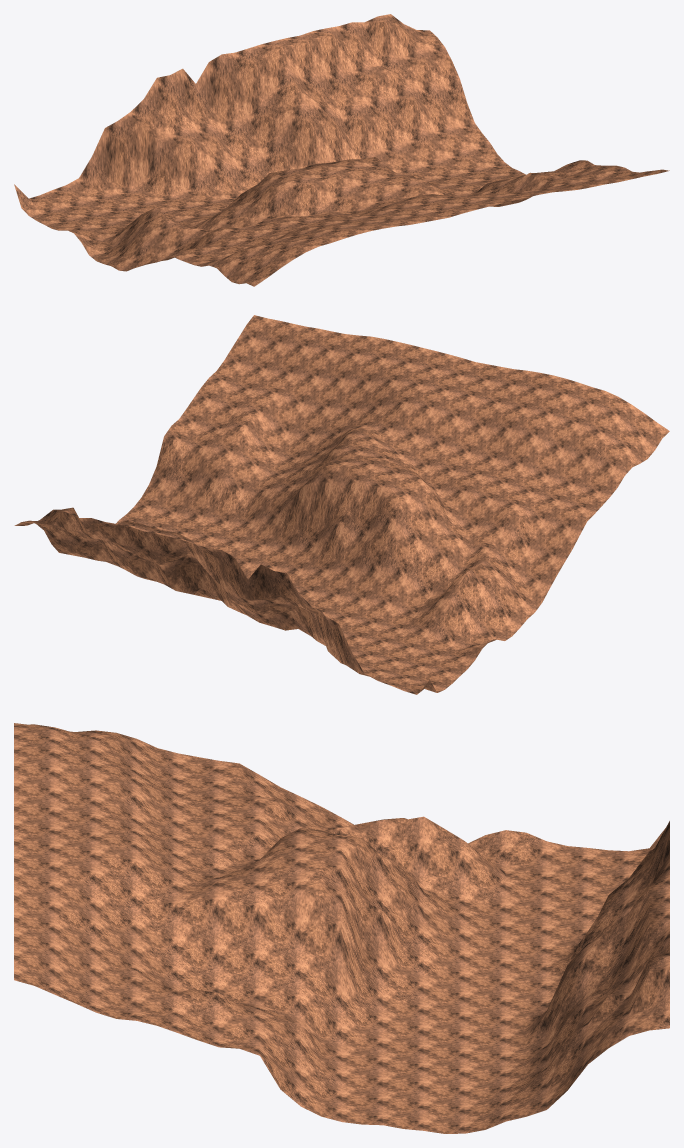
File: terrain_00_19.dae
The picture shows the model from 3 angles, top to bottom: view 1: azimuth 30°, elevation 25°; view 2: azimuth 150°, elevation 25°; view 3: azimuth 270°, elevation 25°; orthographic projection. The views are drawn at different scales.
Visible parts, largest first — view 1: terrain_00_19-node; view 2: terrain_00_19-node; view 3: terrain_00_19-node.
Boxes of the visible parts, bbox=[...] form: terrain_00_19-node: bbox=[14, 14, 669, 286]; terrain_00_19-node: bbox=[14, 315, 669, 694]; terrain_00_19-node: bbox=[14, 723, 669, 1133].
Size of the model in its own units: 128 by 128 by 36.83.
Materials: 1 (1 with a texture image).
